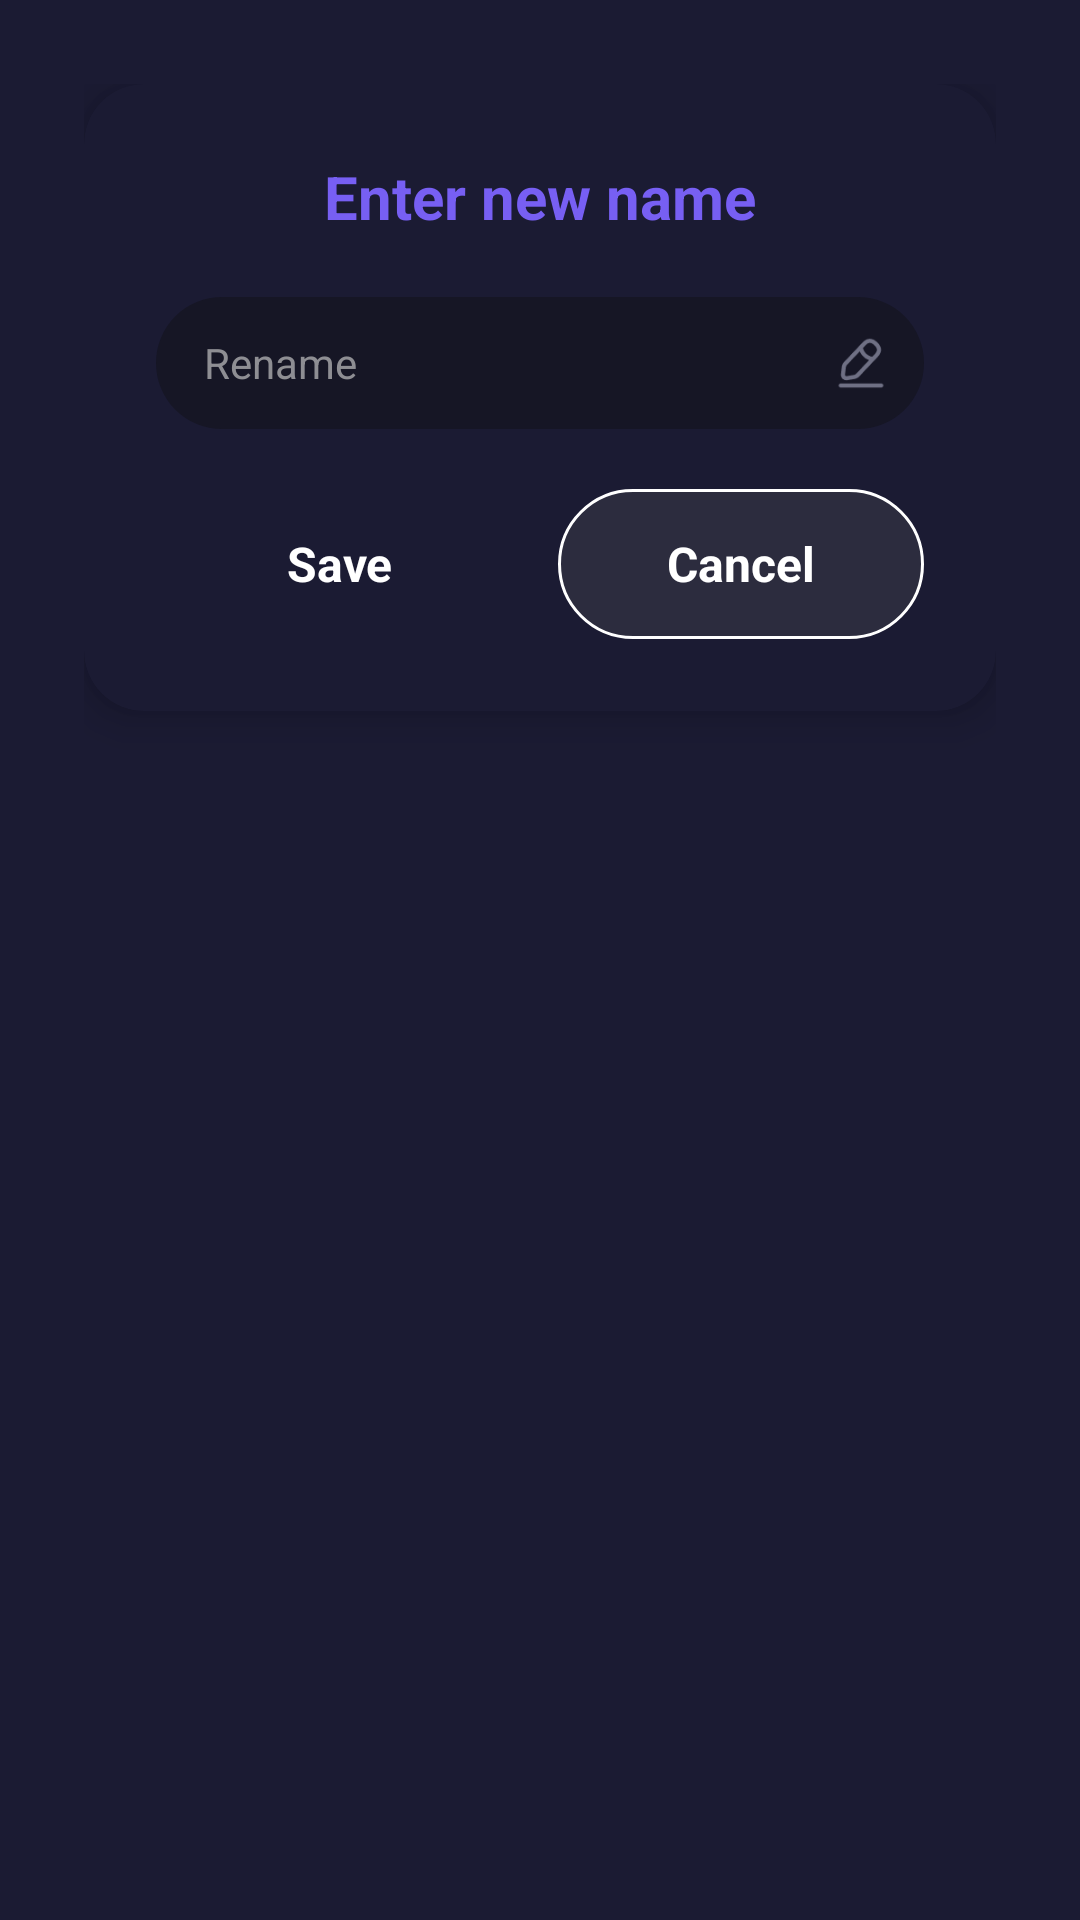

Icons on this 1080*1920 Android screen, each with its box as (left=x1, top=y1, right=x2, bottom=y2):
edit: (left=838, top=339, right=884, bottom=388)
